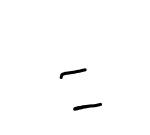eqv: (56, 62, 104, 113)
